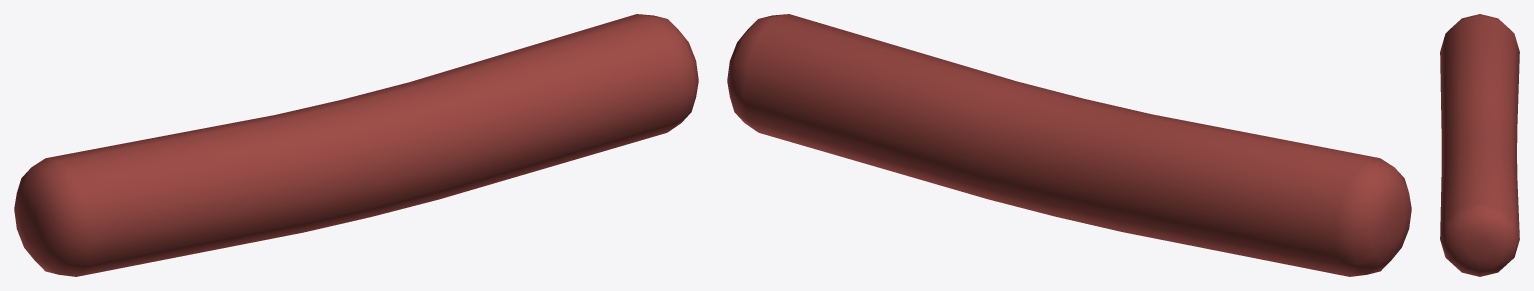
The model's file is Sausage.004.fbx.
The picture shows the model from 3 angles, left to right: view 1: azimuth 30°, elevation 25°; view 2: azimuth 150°, elevation 25°; view 3: azimuth 270°, elevation 25°; orthographic projection. The views are drawn at different scales.
Parts seen in each view (by area): view 1: Sausage.004; view 2: Sausage.004; view 3: Sausage.004.
Part boxes in pixels (box(x1,y1,x2,y2)): Sausage.004: box(14, 14, 698, 276); Sausage.004: box(727, 14, 1411, 276); Sausage.004: box(1440, 14, 1519, 276).
Bounding box in the file's own units: 160 × 25.95 × 28.84.
